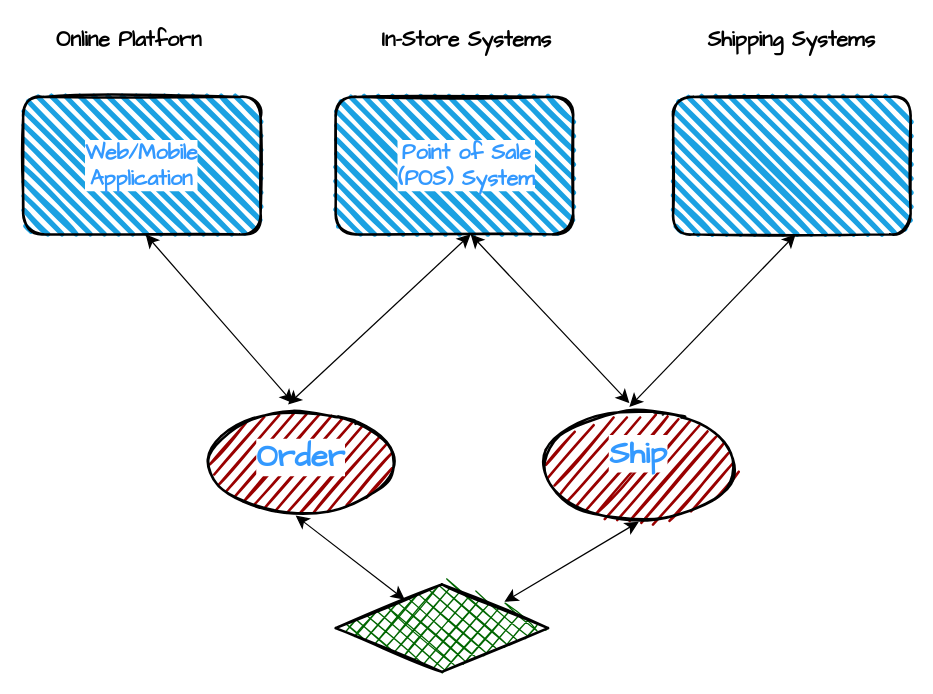
Some shapes in this 933 by 694 pixel diagram are drawn without their labels. The shapes that lost their labels are listed below. From the top down, each one's centre as x and y in pixels, then its label:
At point 791,165: "Warehouse Management System".
At point 441,627: "Data".
